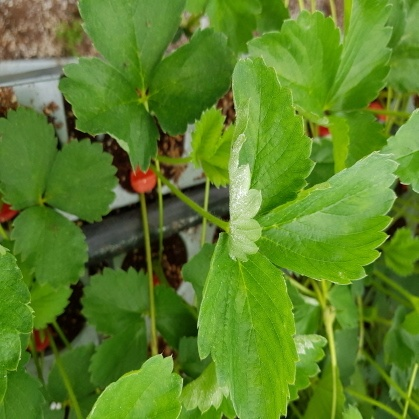Powdery_Leaf: (90, 0, 243, 364), (100, 157, 229, 362)
